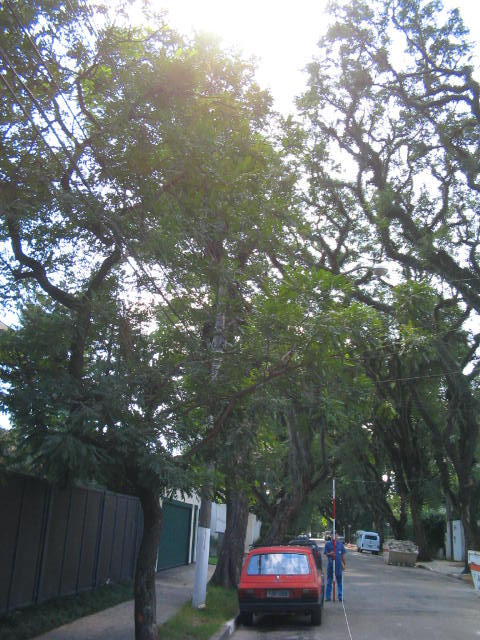stick: (328, 478, 340, 601)
